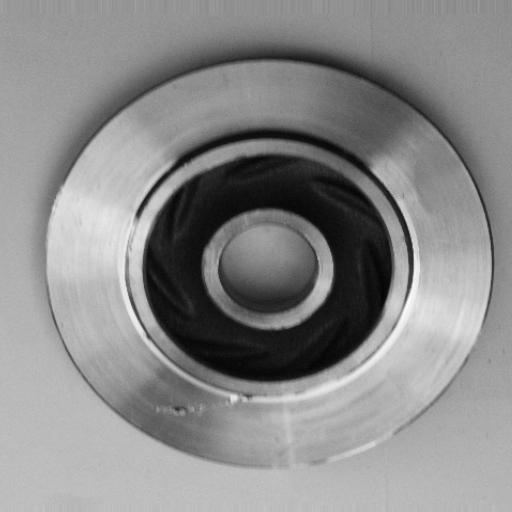crack: (142, 386, 261, 423)
unpolished_casting: (44, 55, 493, 473)
